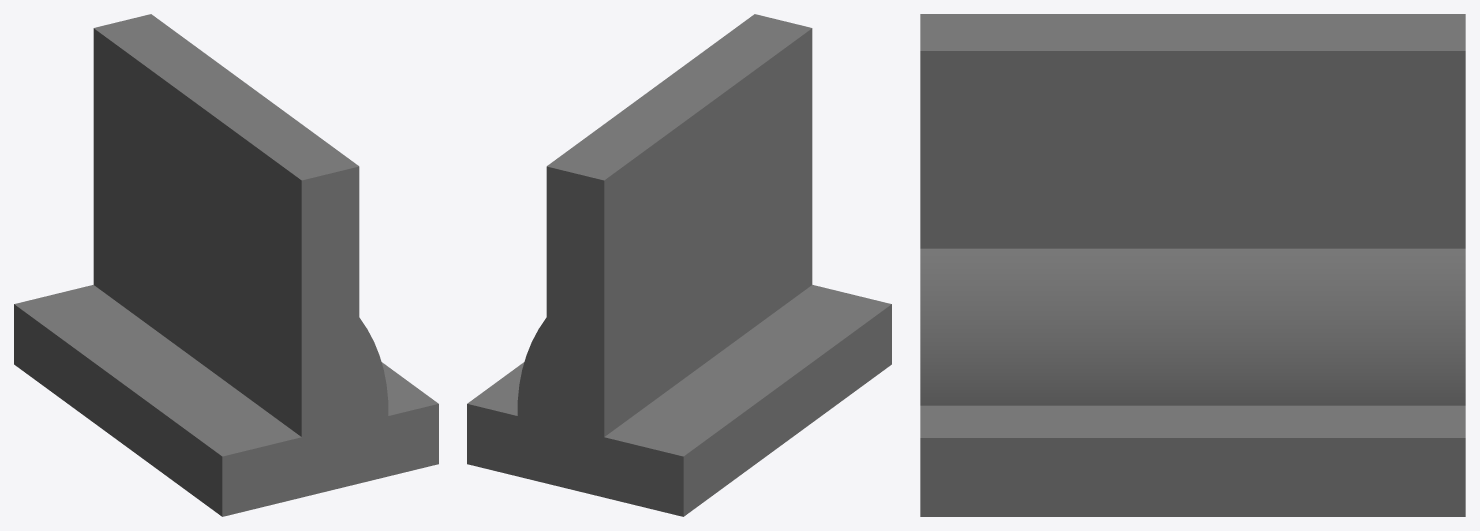
3 views of the same model, side by side, from view 1: azimuth 30°, elevation 25°; view 2: azimuth 150°, elevation 25°; view 3: azimuth 270°, elevation 25° (orthographic). The views are drawn at different scales.
Parts seen in each view (by area): view 1: mesh_id4, mesh_id5; view 2: mesh_id4, mesh_id5; view 3: mesh_id4, mesh_id5.
Boxes of the visible parts, <box> form: mesh_id4: <box>14,14,438,516</box>; mesh_id5: <box>93,255,388,438</box>; mesh_id4: <box>467,14,891,516</box>; mesh_id5: <box>517,255,812,438</box>; mesh_id4: <box>920,14,1465,516</box>; mesh_id5: <box>920,248,1465,405</box>.
Size of the model in its own units: 0.3657 by 0.512 by 0.6095.
2 materials, 2 textured.
